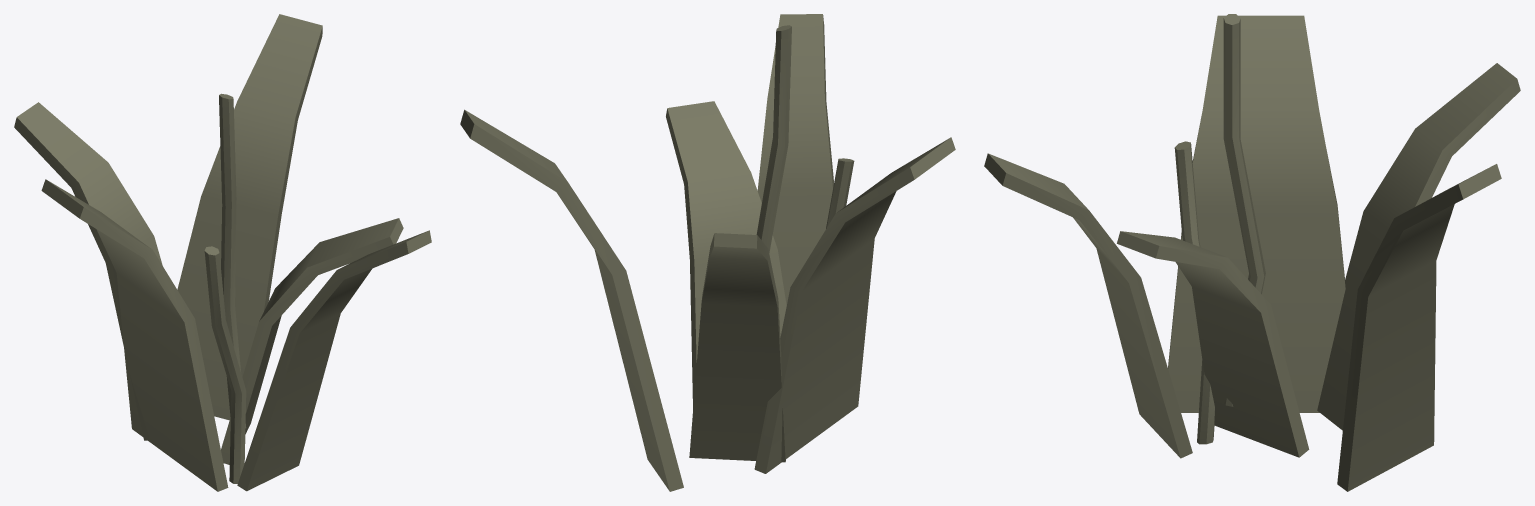
Rendered from green_thing.fbx.
The picture shows the model from 3 angles, left to right: view 1: azimuth 30°, elevation 25°; view 2: azimuth 150°, elevation 25°; view 3: azimuth 270°, elevation 25°; orthographic projection. The views are drawn at different scales.
Parts seen in each view (by area): view 1: pCube4, pCube1, pCube3, pCube2, pCube5, pCylinder5, pCylinder6; view 2: pCube1, pCube2, pCube3, pCube5, pCube4, pCylinder5, pCylinder6; view 3: pCube1, pCube4, pCube5, pCube2, pCube3, pCylinder5, pCylinder6.
Part boxes in pixels (<box>): pCube4: <box>177,14,322,420</box>; pCube1: <box>41,179,228,491</box>; pCube3: <box>237,230,431,491</box>; pCube2: <box>14,102,162,440</box>; pCube5: <box>221,218,403,464</box>; pCylinder5: <box>219,93,246,427</box>; pCylinder6: <box>204,246,246,483</box>; pCube1: <box>754,137,955,473</box>; pCube2: <box>689,233,786,462</box>; pCube3: <box>757,14,833,305</box>; pCube5: <box>666,101,786,408</box>; pCube4: <box>460,109,683,491</box>; pCylinder5: <box>756,25,791,252</box>; pCylinder6: <box>826,158,854,228</box>; pCube1: <box>1168,15,1345,412</box>; pCube4: <box>1337,164,1501,491</box>; pCube5: <box>1117,231,1309,457</box>; pCube2: <box>1317,63,1520,430</box>; pCube3: <box>984,153,1192,458</box>; pCylinder5: <box>1223,14,1265,406</box>; pCylinder6: <box>1174,141,1214,444</box>.
Bounding box in the file's own units: 2.16 × 2.25 × 2.52.
